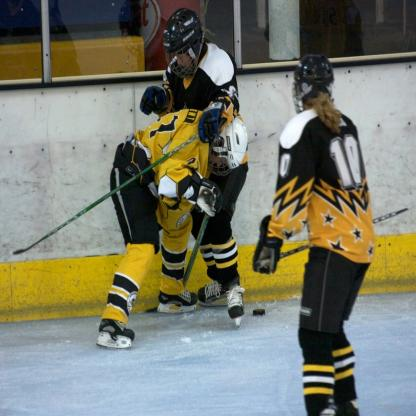Helmet: (160, 10, 206, 70), (292, 50, 335, 110), (212, 113, 247, 176)
